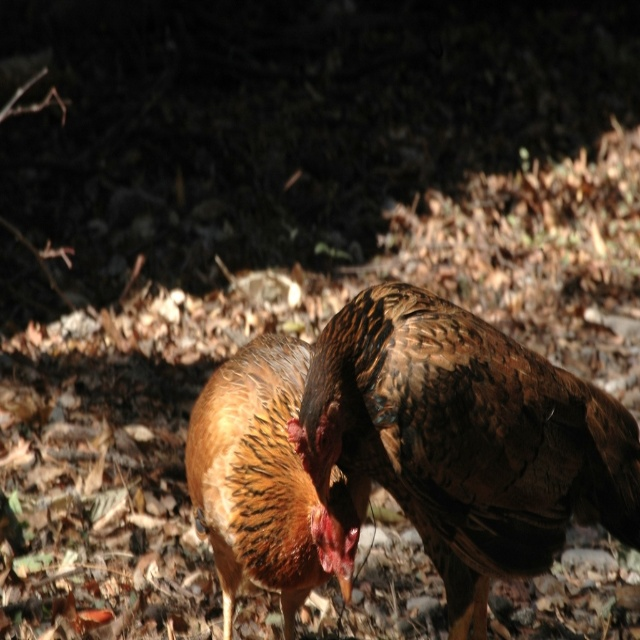Chicken: (286, 283, 640, 639), (188, 312, 367, 640)
